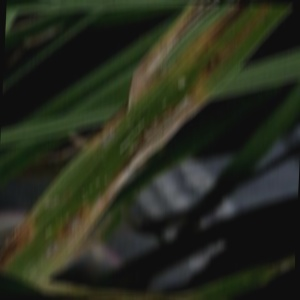Brown_Spot: (55, 208, 92, 236), (35, 237, 64, 256)
